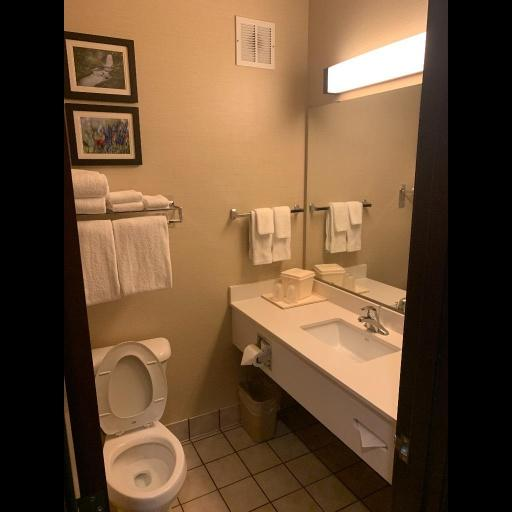clean mirror: (307, 84, 425, 315)
clean_floor: (177, 408, 392, 510)
clean_sink: (225, 268, 407, 483)
clean_toilet: (93, 335, 191, 510)
folded_towel: (78, 215, 174, 309), (72, 168, 182, 216), (248, 208, 297, 267)
